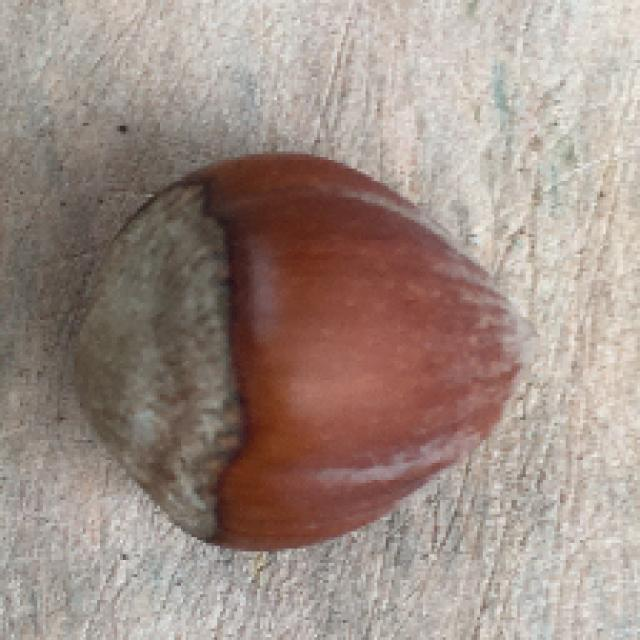qualityHazelnut: (59, 147, 552, 558)
